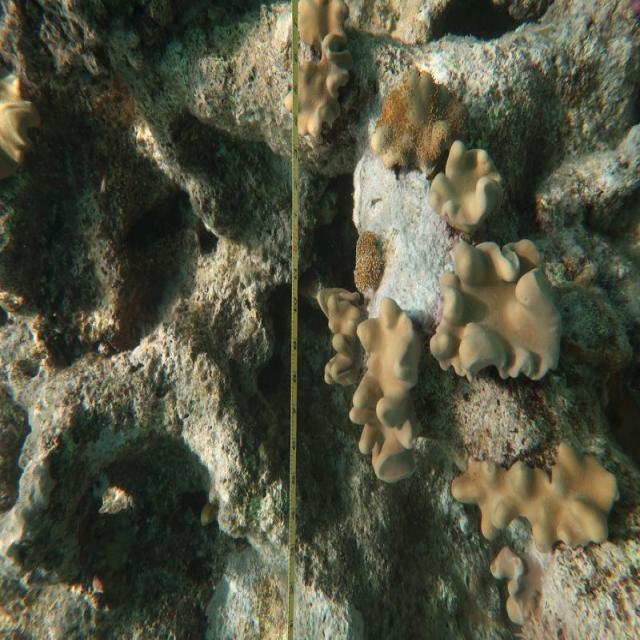Healthy Coral: (429, 242, 585, 388), (447, 433, 623, 545), (346, 294, 423, 487), (371, 58, 468, 179), (288, 4, 358, 141), (428, 138, 507, 233), (311, 280, 363, 390), (486, 549, 543, 629), (354, 223, 392, 294)
